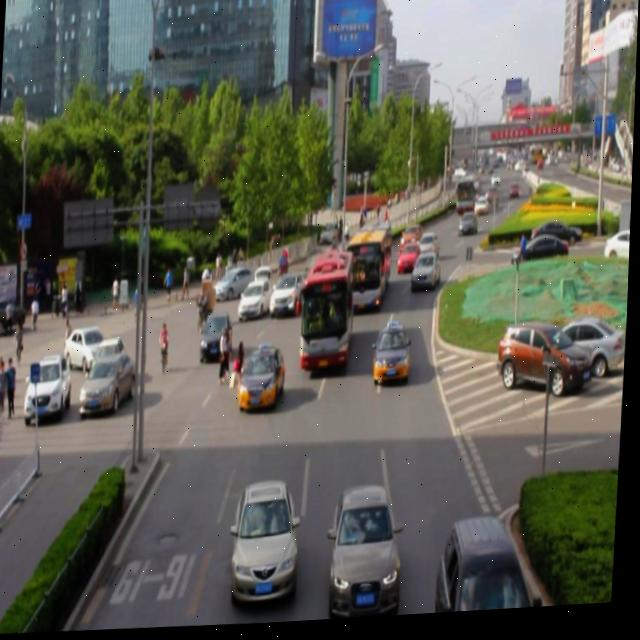car: (332, 484, 406, 623), (438, 520, 539, 619), (236, 482, 302, 607), (242, 349, 287, 415), (374, 329, 412, 390), (271, 271, 308, 323), (201, 313, 238, 364), (239, 279, 275, 323), (413, 257, 443, 296), (416, 236, 442, 273), (397, 247, 422, 280), (401, 228, 423, 258)
van: (303, 254, 355, 371), (350, 228, 389, 314)
